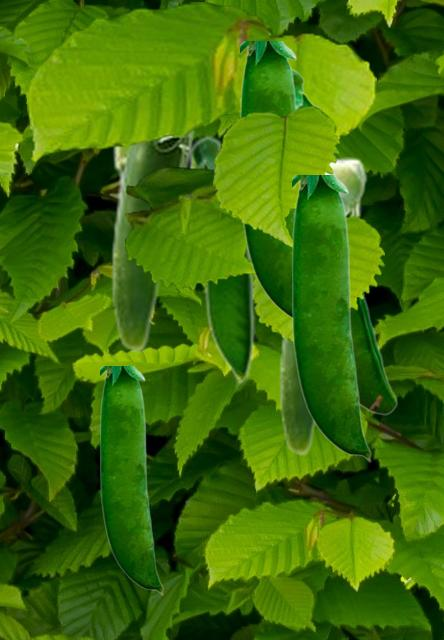pea: (292, 67, 396, 414), (278, 157, 367, 455), (292, 175, 370, 461), (110, 129, 200, 352), (187, 134, 254, 388), (240, 41, 298, 318), (100, 366, 162, 594)
